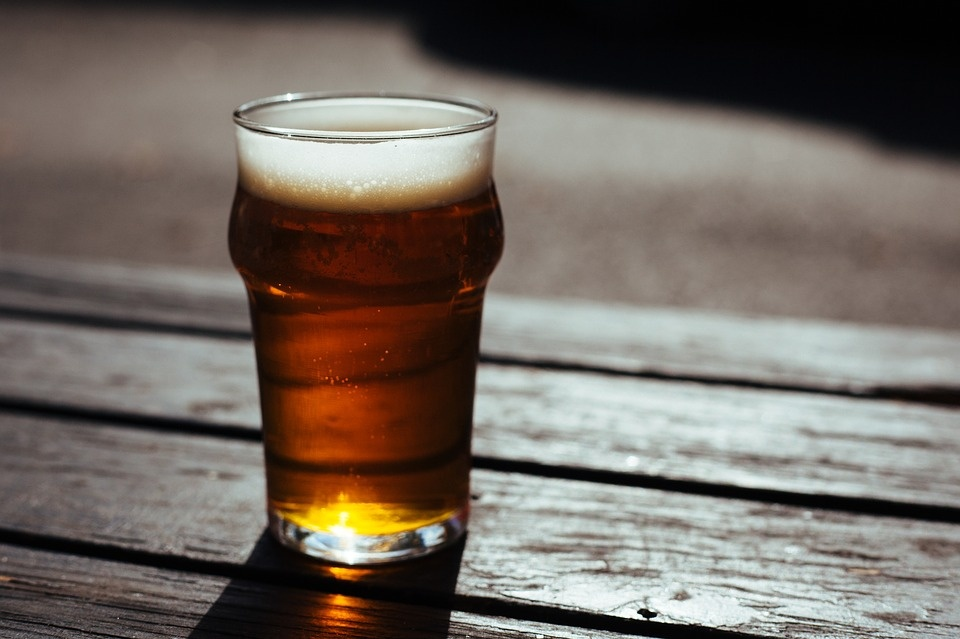glassBeer: (226, 92, 500, 554)
